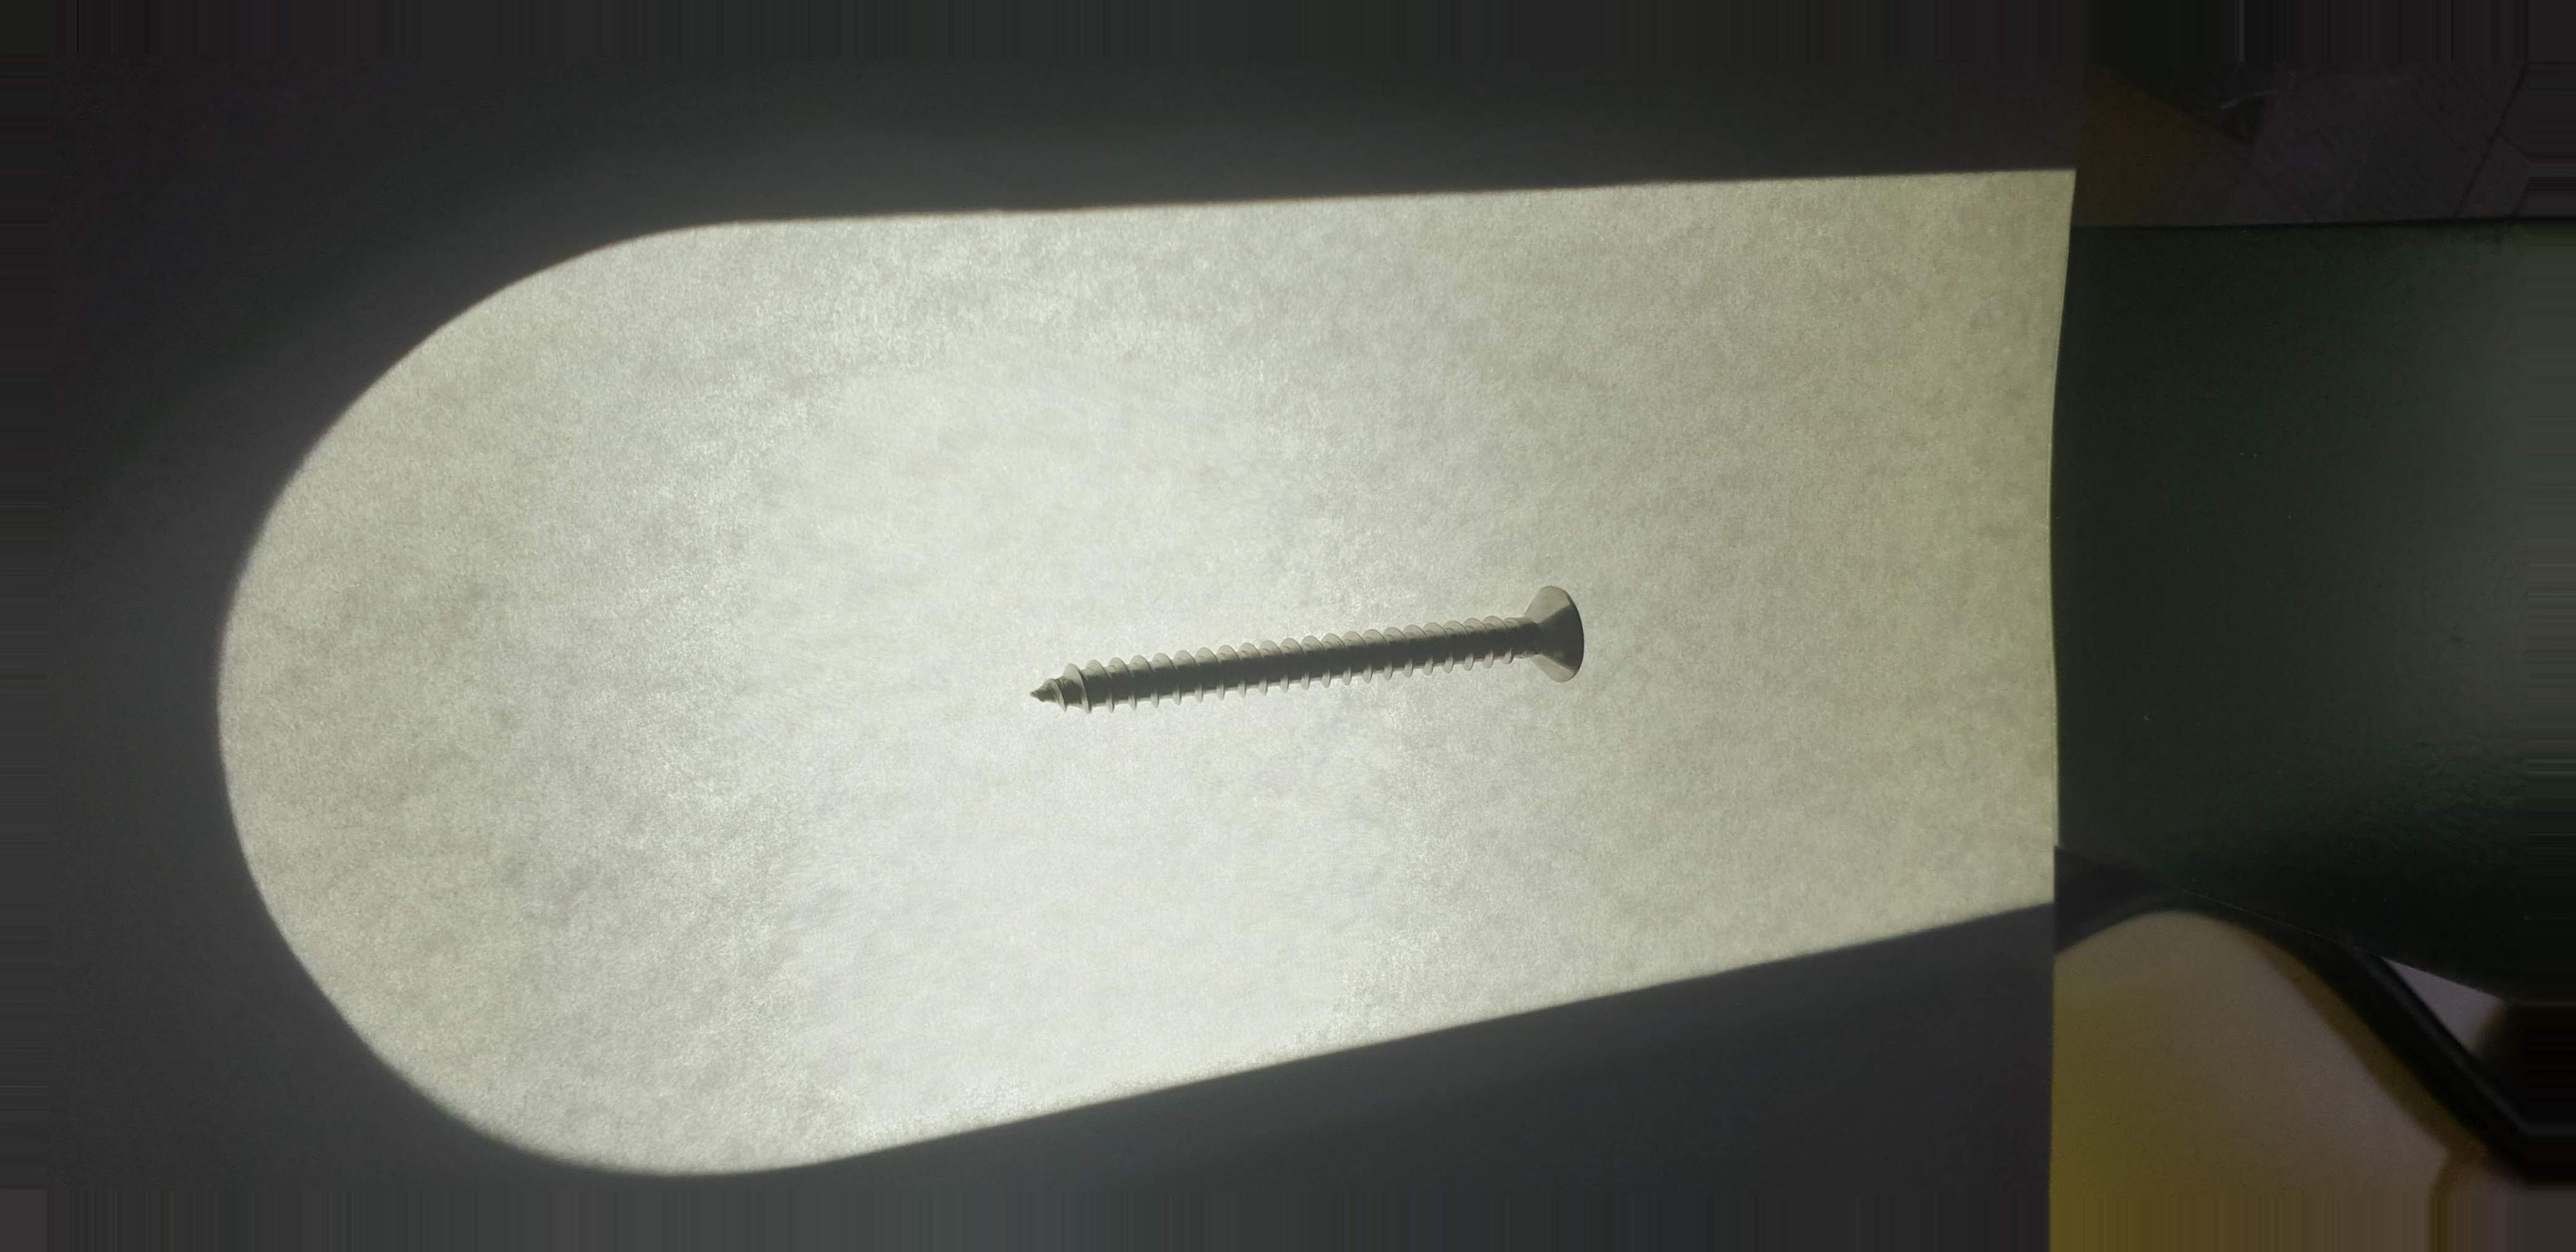S001: (1005, 572, 1617, 738)
